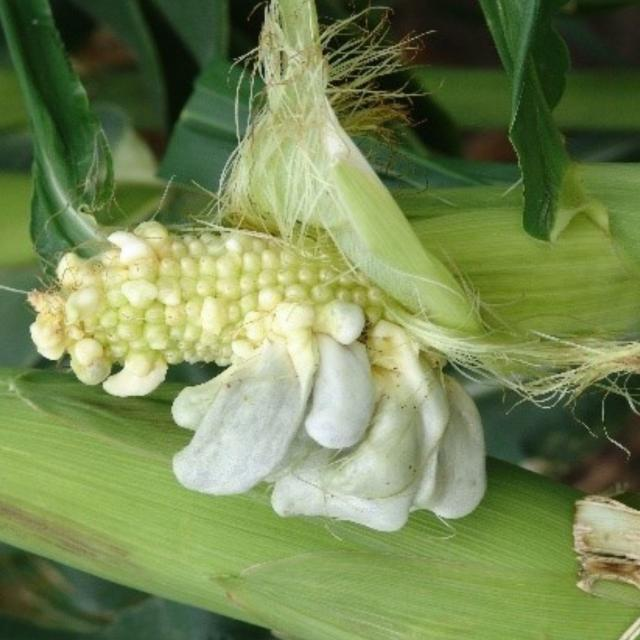Leaf_Scald: (39, 178, 538, 563)
